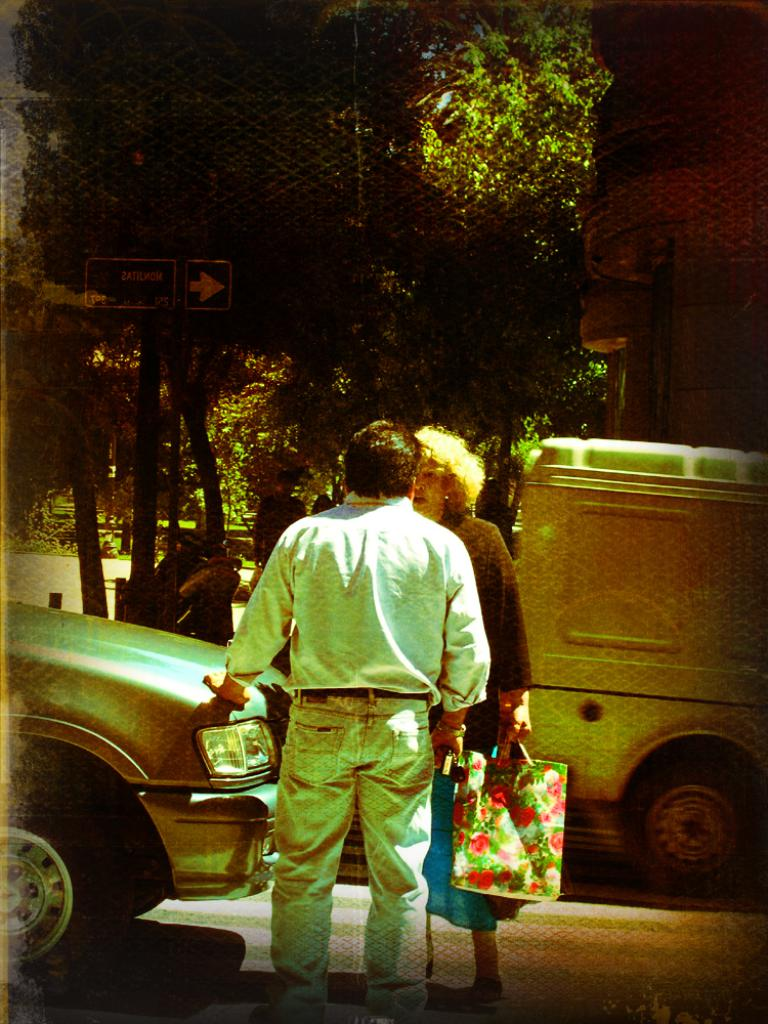car: (1, 544, 338, 985), (479, 407, 768, 894)
